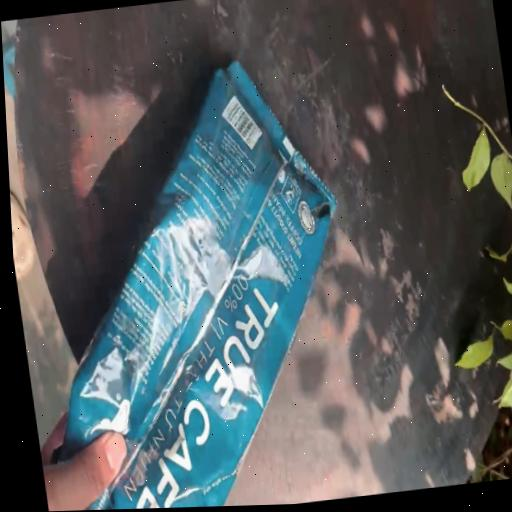cafe_hat: (53, 62, 335, 510)
